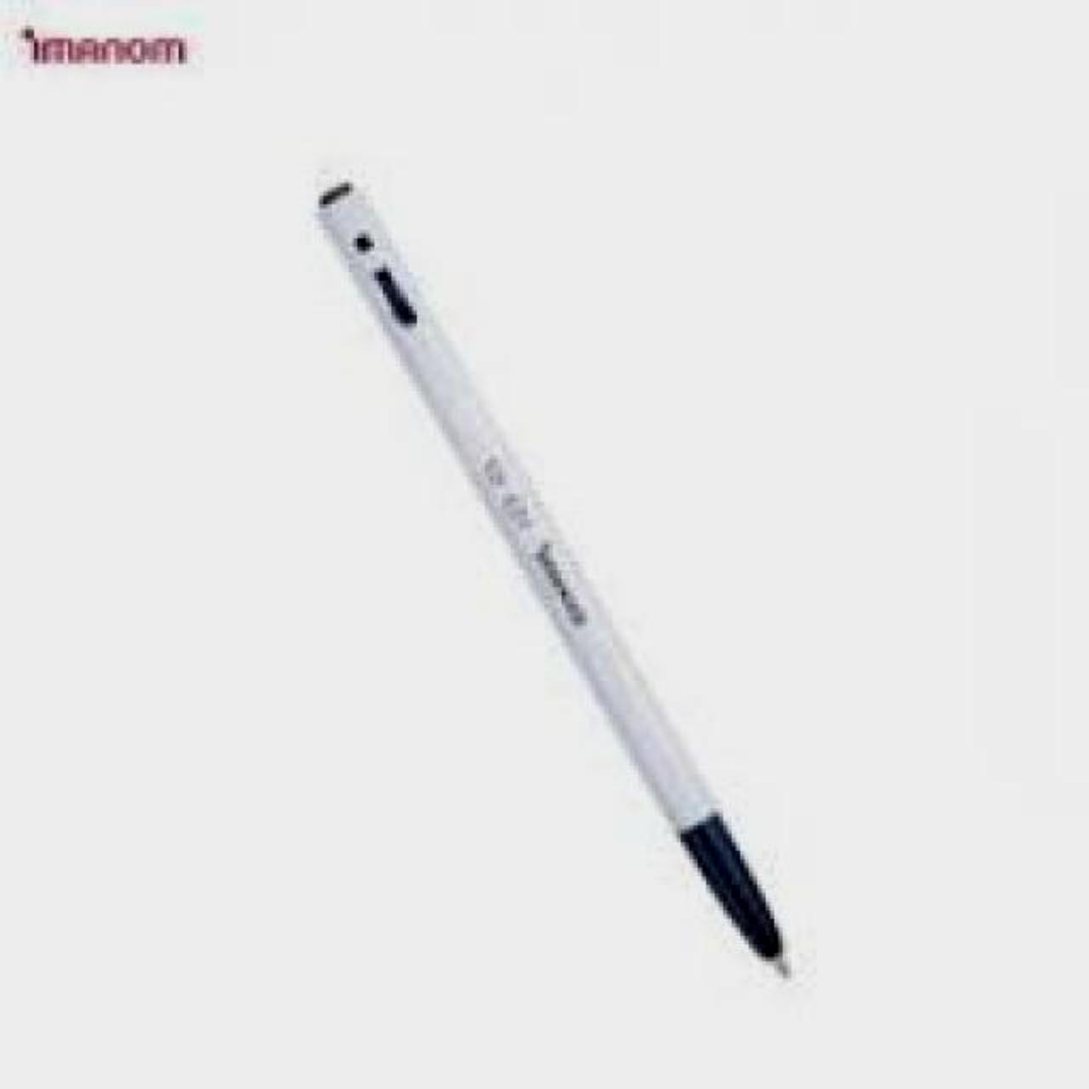pen: (310, 175, 803, 992)
